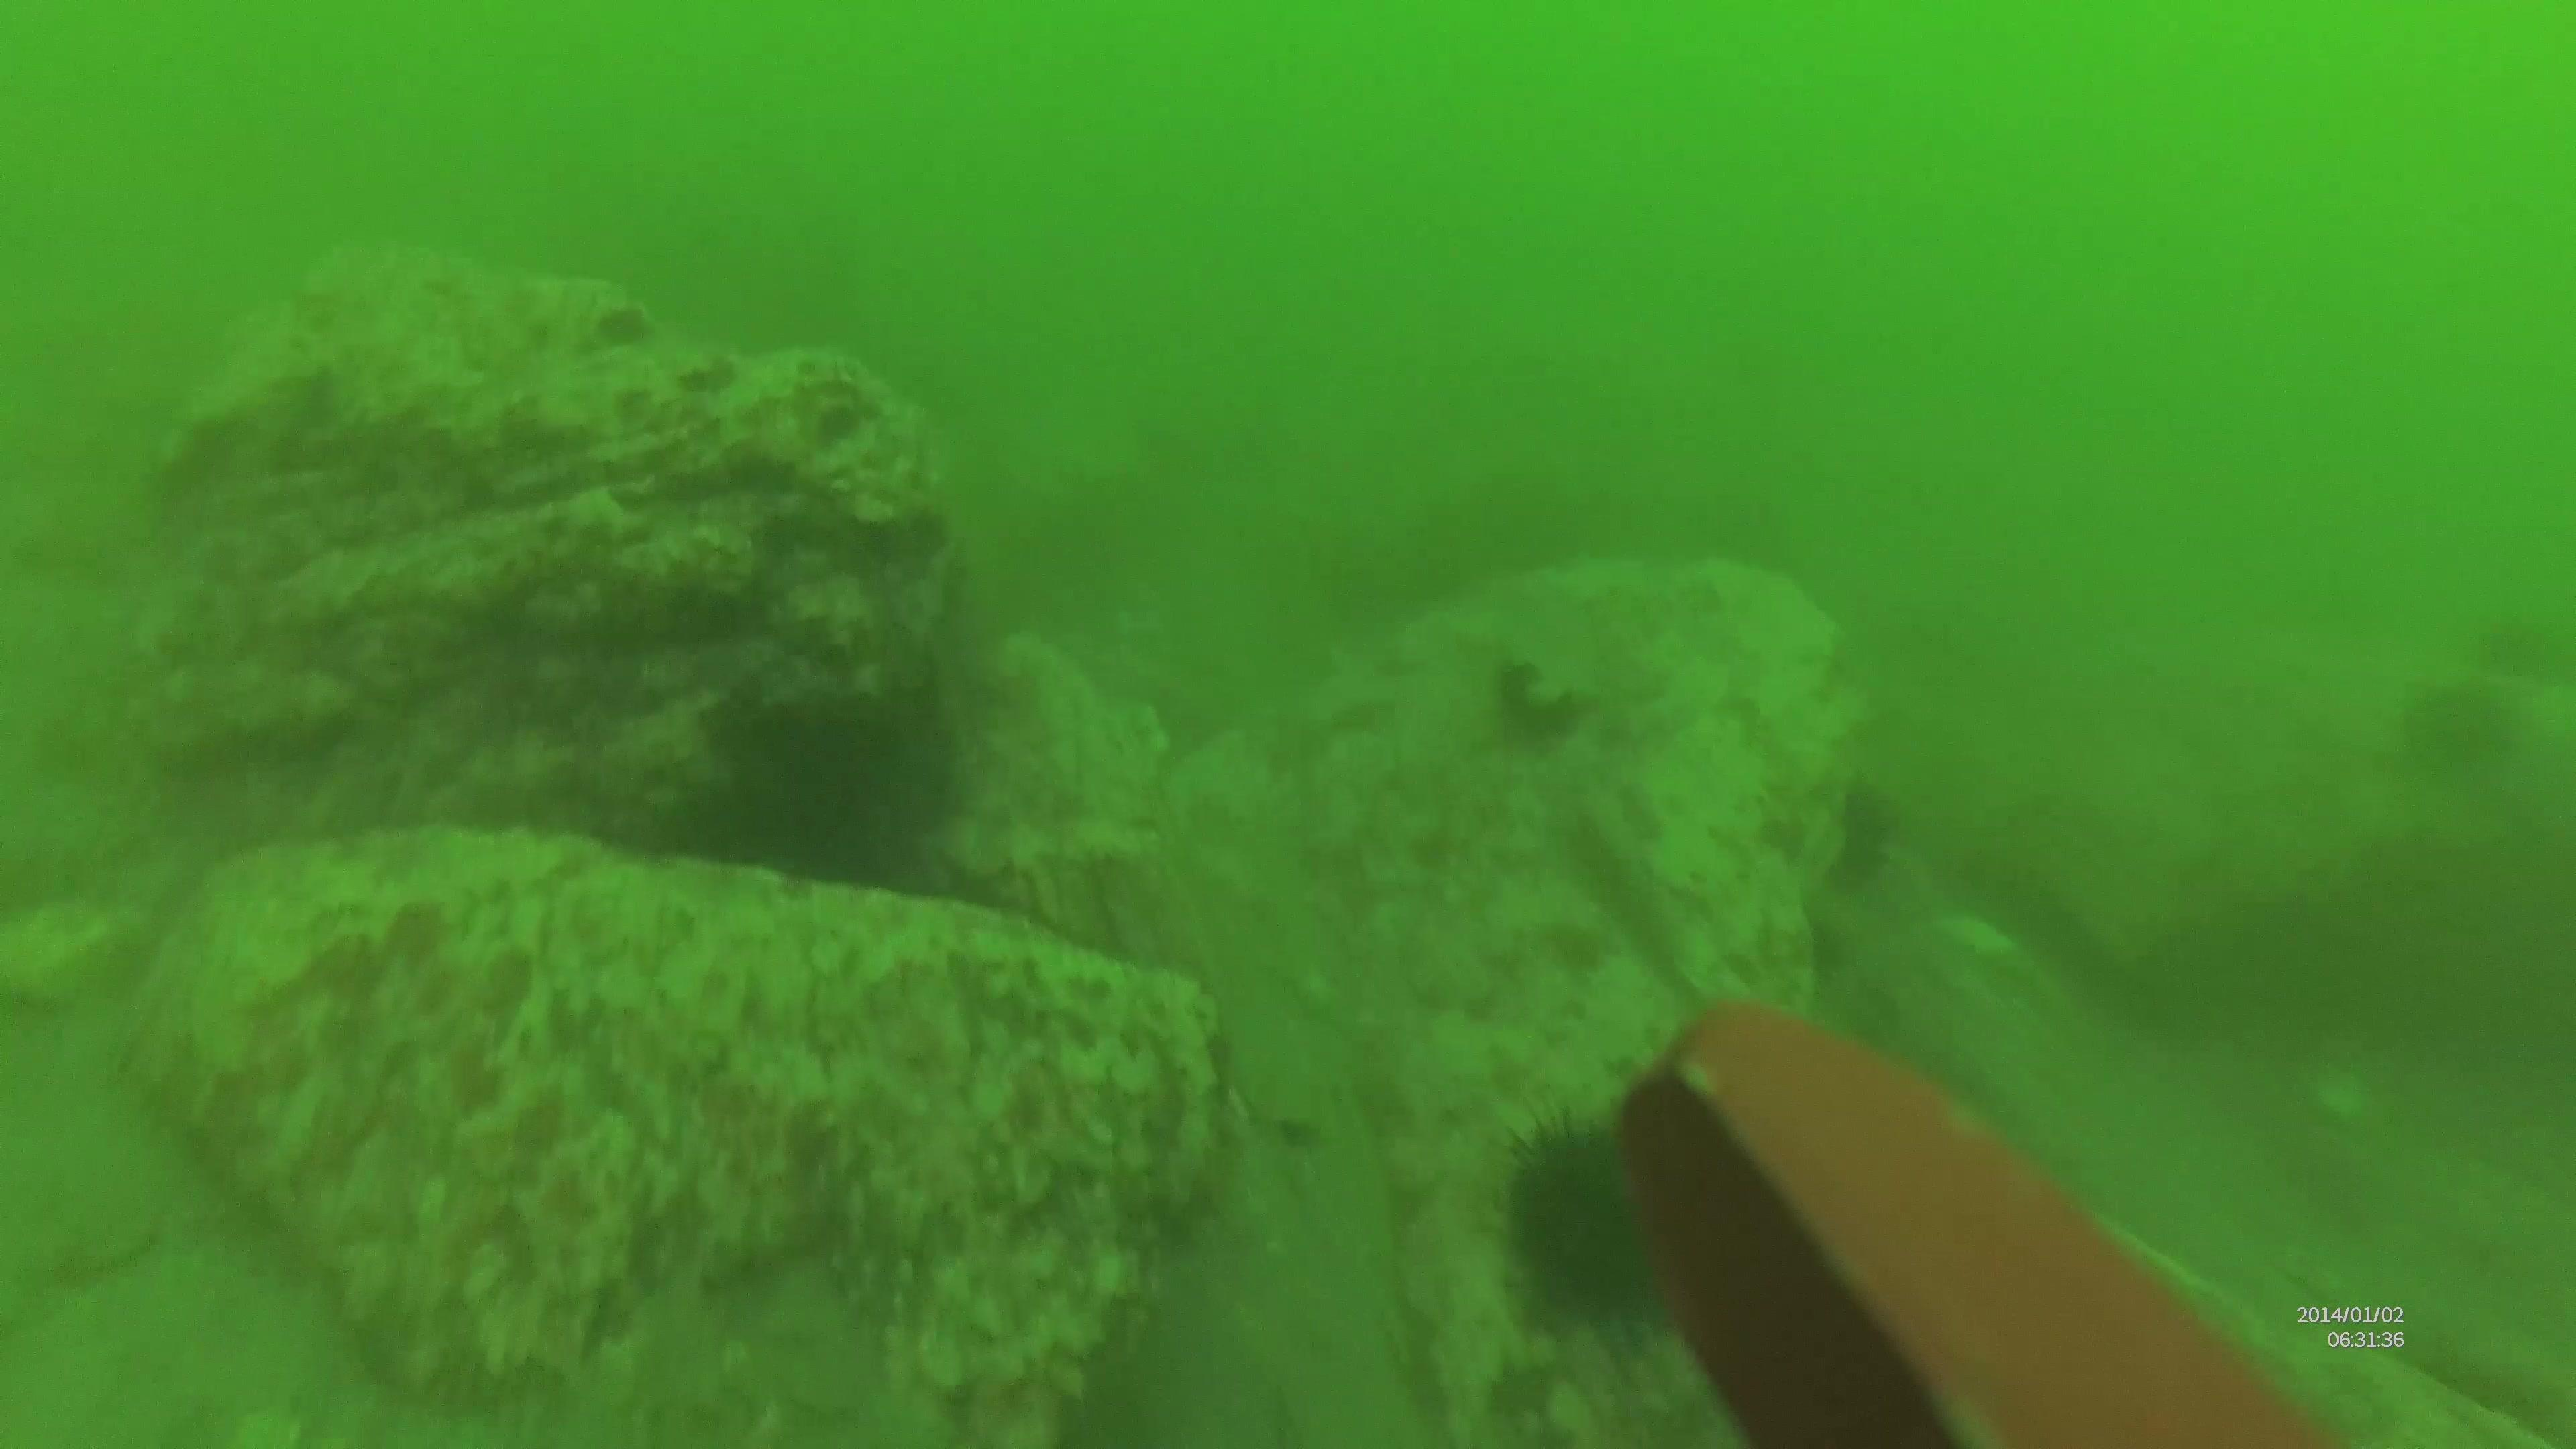echinus: (1493, 1115, 1667, 1327)
